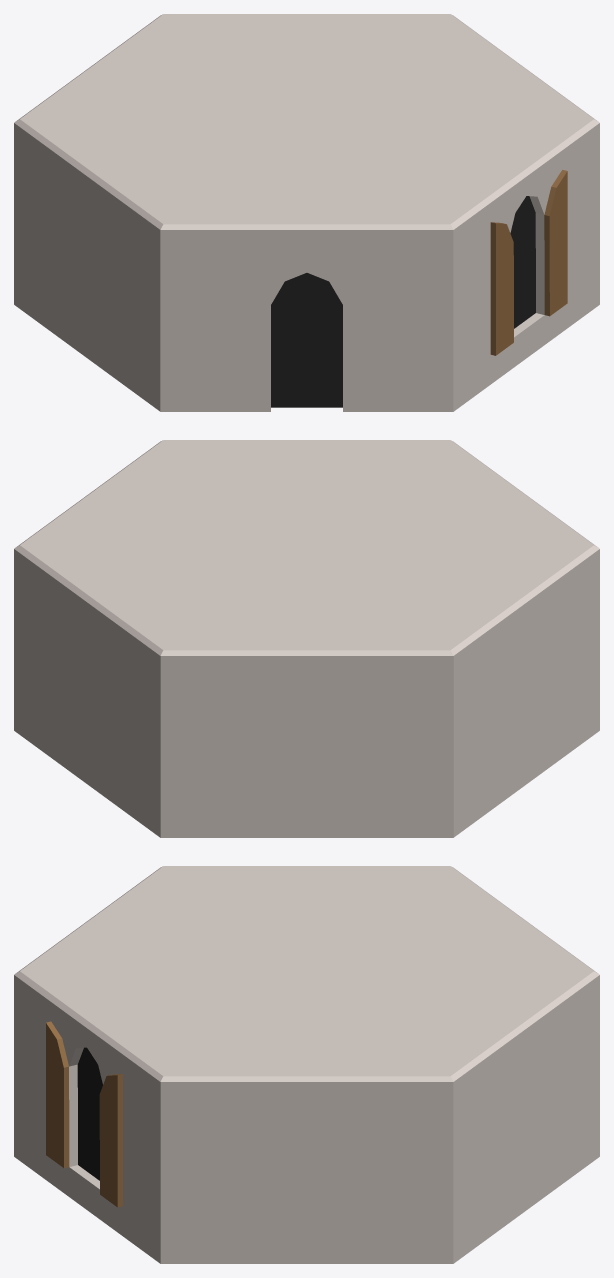
Rendered from RPG_Tiles_Hex_Building_Door_Raised_04.FBX.
The picture shows the model from 3 angles, top to bottom: view 1: azimuth 30°, elevation 25°; view 2: azimuth 150°, elevation 25°; view 3: azimuth 270°, elevation 25°; orthographic projection.
Visible parts, largest first — view 1: RPG_Tiles_Hex_Building_Door_Raised_04; view 2: RPG_Tiles_Hex_Building_Door_Raised_04; view 3: RPG_Tiles_Hex_Building_Door_Raised_04.
Boxes of the visible parts, x1,y1,x2,y2 form: RPG_Tiles_Hex_Building_Door_Raised_04: [14, 14, 599, 411]; RPG_Tiles_Hex_Building_Door_Raised_04: [14, 440, 599, 837]; RPG_Tiles_Hex_Building_Door_Raised_04: [14, 866, 599, 1263].
Bounding box in the file's own units: 3000 × 1210 × 3464.
